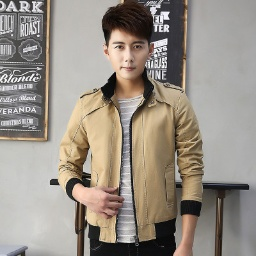face: (101, 1, 156, 82)
